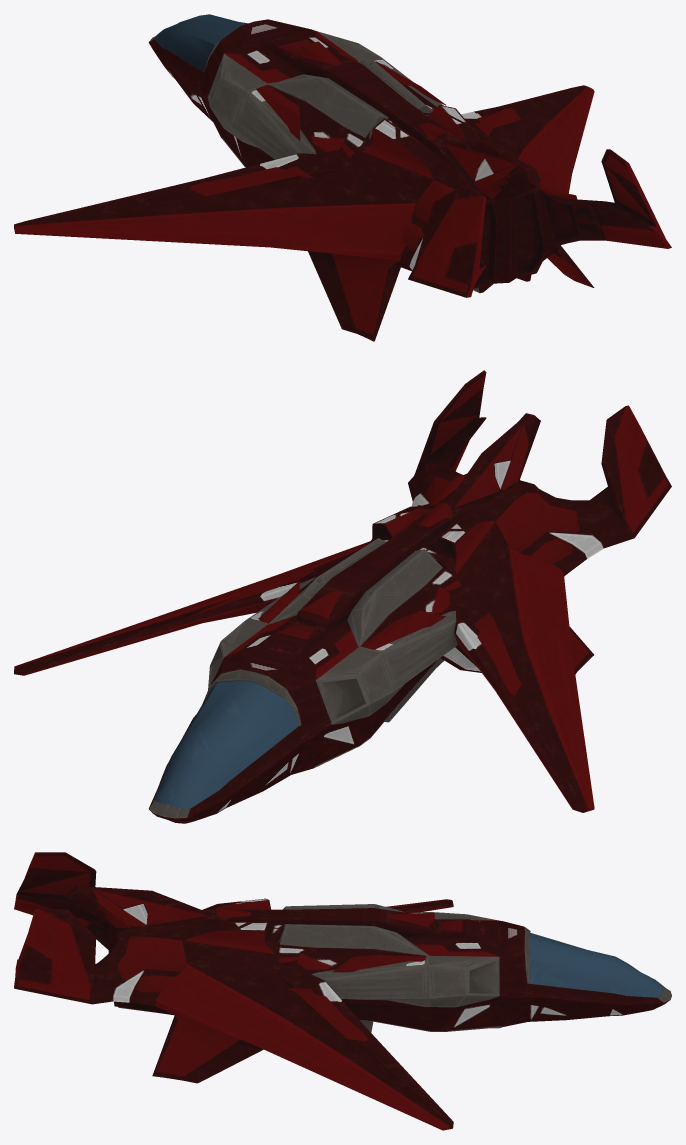
The model's file is S5-spaceship.glb.
3 renders of one model, top to bottom at view 1: azimuth 30°, elevation 25°; view 2: azimuth 150°, elevation 25°; view 3: azimuth 270°, elevation 25°, orthographic. The views are drawn at different scales.
Parts seen in each view (by area): view 1: Cube.009_Material.001_0, Cube.009_Material.004_0; view 2: Cube.009_Material.001_0, Cube.009_Material.004_0; view 3: Cube.009_Material.001_0, Cube.009_Material.004_0.
Part boxes in pixels (x1,y1,x2,y2): Cube.009_Material.001_0: (14,19,671,341); Cube.009_Material.004_0: (154,14,247,71); Cube.009_Material.001_0: (14,370,671,823); Cube.009_Material.004_0: (154,681,299,808); Cube.009_Material.001_0: (14,852,671,1130); Cube.009_Material.004_0: (529,932,663,997).
Size of the model in its own units: 6.46 by 2.08 by 7.85.
2 materials, 1 textured.
